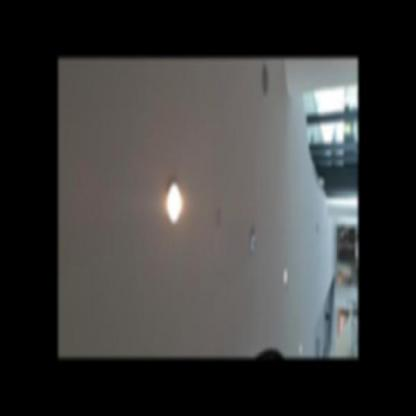light_on: (160, 172, 192, 231)
